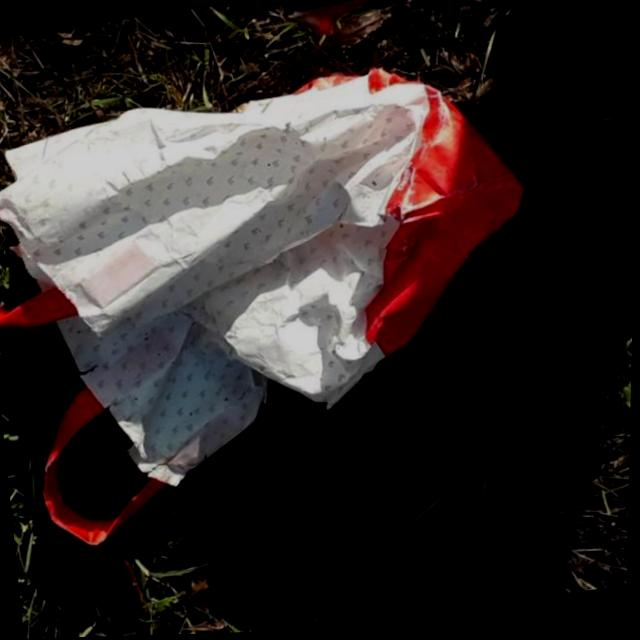Paper: (0, 40, 564, 562)
